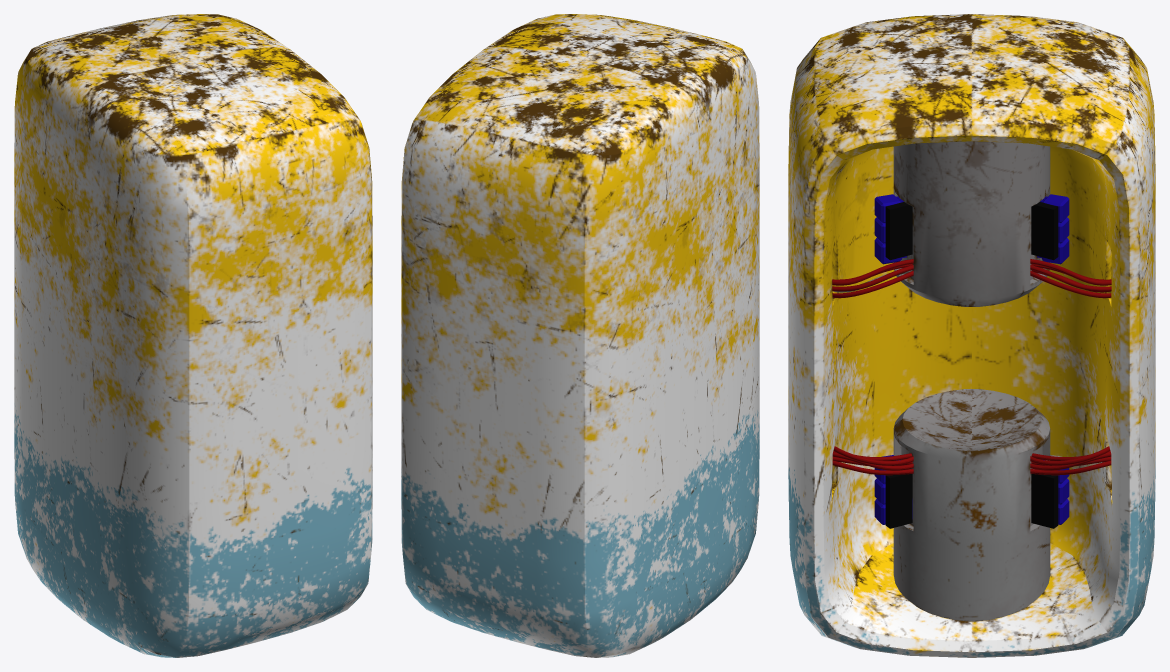
The model's file is Modular_Dungeon_generator_empty.fbx.
3 views of the same model, side by side, from view 1: azimuth 30°, elevation 25°; view 2: azimuth 150°, elevation 25°; view 3: azimuth 270°, elevation 25° (orthographic). The views are drawn at different scales.
Visible parts, largest first — view 1: Generator_Wall_empty; view 2: Generator_Wall_empty; view 3: Generator_Wall_empty.
Part boxes in pixels (x1,y1,x2,y2): Generator_Wall_empty: (14,14,372,657); Generator_Wall_empty: (401,14,759,657); Generator_Wall_empty: (788,14,1155,657).
Size of the model in its own units: 33.1 by 77.78 by 45.96.
